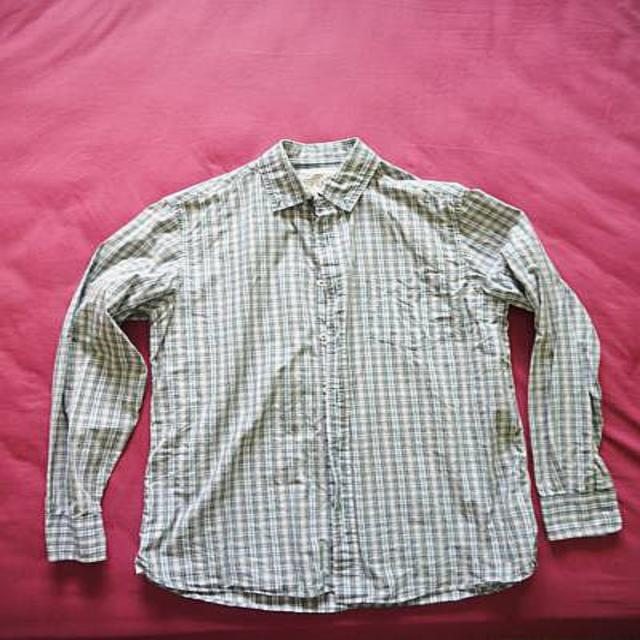SHIRT: (25, 134, 640, 618)
